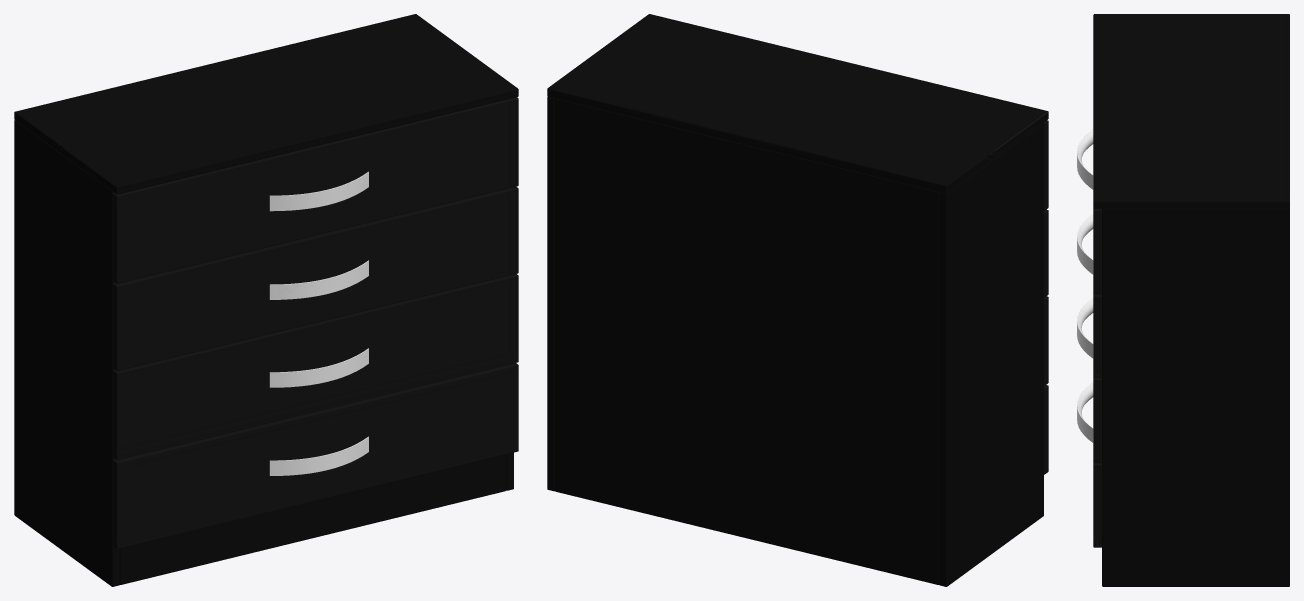
3 views of the same model, side by side, from view 1: azimuth 30°, elevation 25°; view 2: azimuth 150°, elevation 25°; view 3: azimuth 270°, elevation 25° (orthographic). The views are drawn at different scales.
Visible parts, largest first — view 1: B079X4Z6QX; view 2: B079X4Z6QX; view 3: B079X4Z6QX.
Boxes of the visible parts, x1,y1,x2,y2 form: B079X4Z6QX: (14, 14, 518, 586); B079X4Z6QX: (547, 14, 1048, 586); B079X4Z6QX: (1077, 14, 1289, 586).
Bounding box in the file's own units: 0.7501 × 0.7201 × 0.3599.
Materials: 1 (1 with a texture image).
